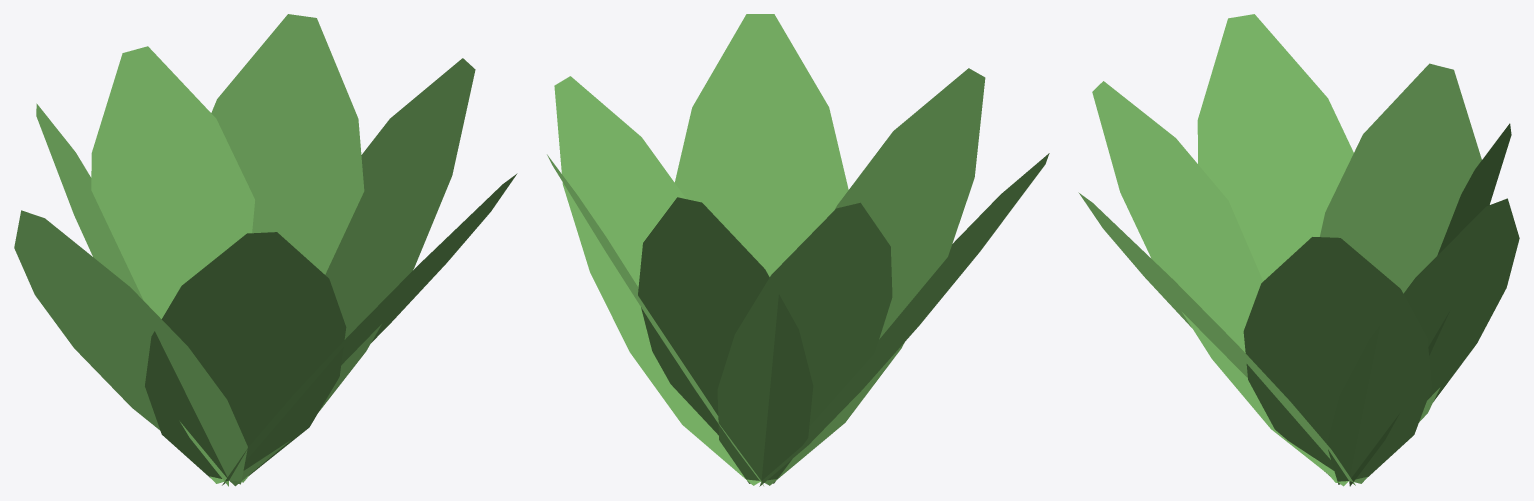
The model's file is plant_flatShort.glb.
3 views of the same model, side by side, from view 1: azimuth 30°, elevation 25°; view 2: azimuth 150°, elevation 25°; view 3: azimuth 270°, elevation 25° (orthographic). The views are drawn at different scales.
Visible parts, largest first — view 1: plant_flatShort; view 2: plant_flatShort; view 3: plant_flatShort.
Part boxes in pixels (x1,y1,x2,y2): plant_flatShort: [14, 14, 517, 486]; plant_flatShort: [547, 14, 1049, 486]; plant_flatShort: [1078, 14, 1519, 486].
Size of the model in its own units: 0.1392 by 0.101 by 0.116.
